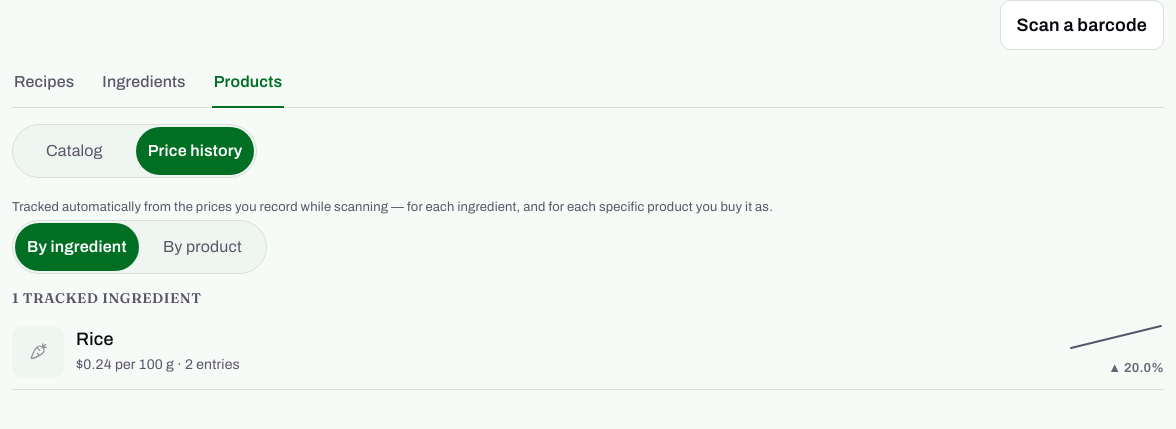
Scenario: PriceHistory — two levels (DESIGN_PRODUCTS.md §1.4) › shows both an ingredient-level row and a distinct product-level row for the same underlying data
Expected: the text "Rice" is shown, [76,329,114,349]
Expected: the text "$0.24 per 100 g · 2 entries" is shown, [76,357,240,372]
Click the radio button labelled "By product".
click(202, 246)  # box [163,238,242,255]
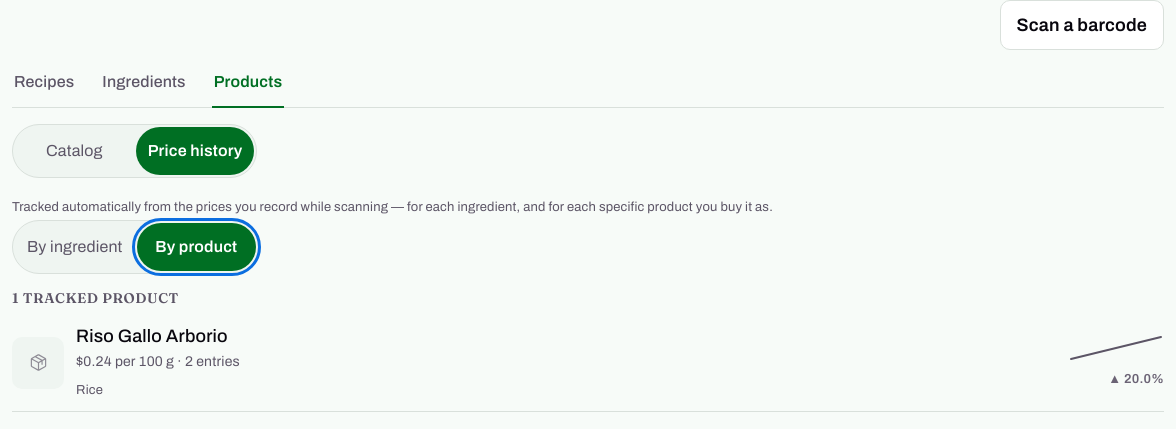
Expected: the text "▲ 20.0%" is shown, [1108,372,1164,386]
Expected: the text "Riso Gallo Arborio" is shown, [76,326,228,346]
